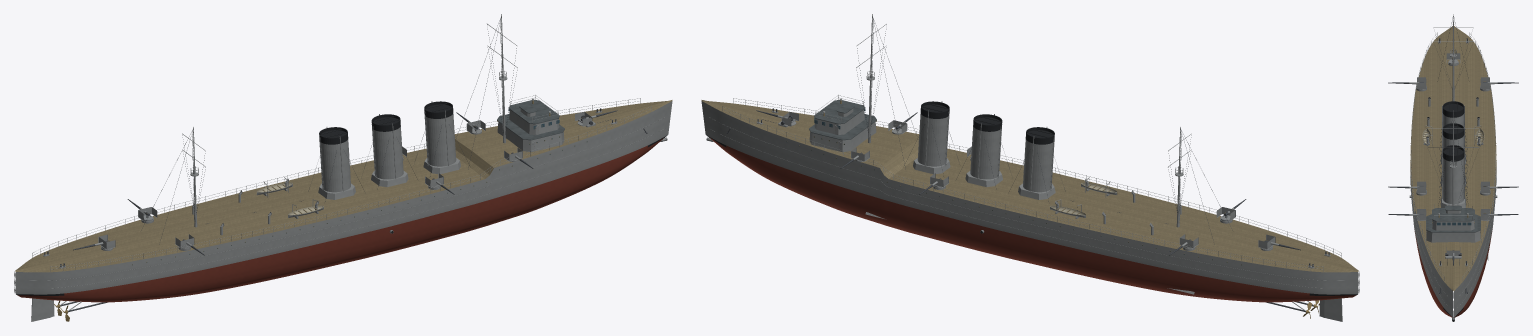
The model's file is aurora_1903.glb.
The picture shows the model from 3 angles, left to right: view 1: azimuth 30°, elevation 25°; view 2: azimuth 150°, elevation 25°; view 3: azimuth 270°, elevation 25°; orthographic projection. The views are drawn at different scales.
Visible parts, largest first — view 1: Pallada class (Aurora); view 2: Pallada class (Aurora); view 3: Pallada class (Aurora).
Boxes of the visible parts, box(x1,y1,x2,y2) form: Pallada class (Aurora): box(14, 14, 672, 321); Pallada class (Aurora): box(701, 14, 1359, 321); Pallada class (Aurora): box(1388, 14, 1518, 321).
Bounding box in the file's own units: 127 × 36.1 × 25.54.
Materials: 9 (8 with a texture image).
